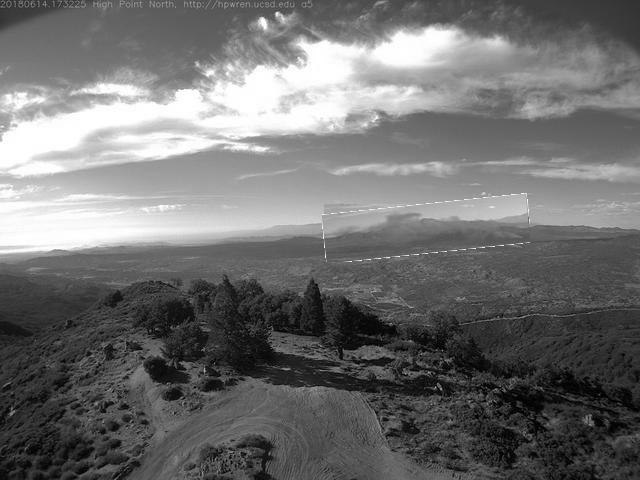smoke: (324, 200, 532, 259)
